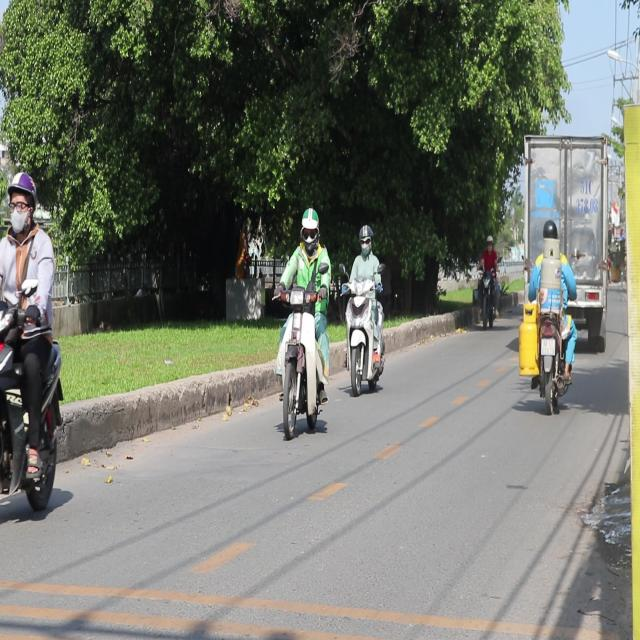helmet: (6, 171, 36, 233), (300, 208, 320, 248), (541, 218, 560, 252), (356, 224, 372, 254)
licenseplate: (0, 167, 68, 528), (271, 205, 334, 441), (522, 216, 578, 412), (342, 222, 387, 394)
nohelmet: (541, 338, 555, 354)
